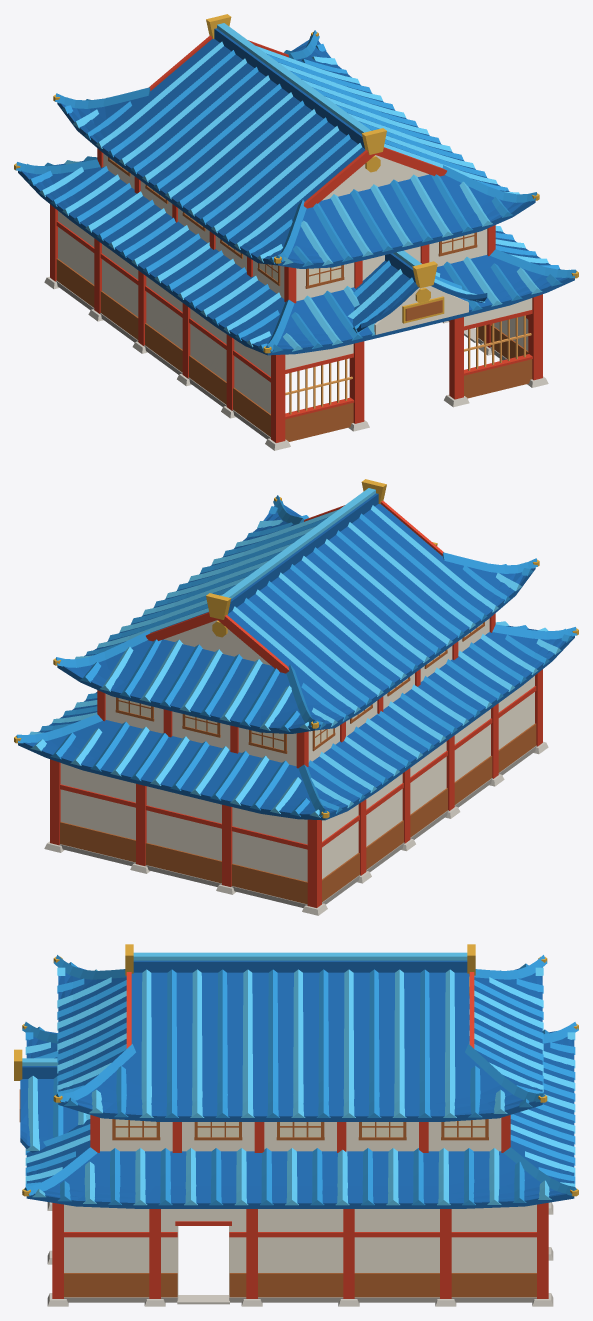
File: FeudalStore.fbx
3 renders of one model, top to bottom at view 1: azimuth 30°, elevation 25°; view 2: azimuth 150°, elevation 25°; view 3: azimuth 270°, elevation 25°, orthographic. The views are drawn at different scales.
Visible parts, largest first — view 1: FeudalStore_Roof_fd_roof_dk, FeudalStore_Roof_fd_roof, FeudalStore_Roof_fd_roof_lt, FeudalStore_fd_red, FeudalStore_fd_plaster, FeudalStore_fd_wood_dk, FeudalStore_Roof_fd_plaster, FeudalStore_Roof_fd_red, FeudalStore_Roof_gold, FeudalStore_fd_wood, FeudalStore_Roof_fd_wood_dk, FeudalStore_fd_stone (+2 smaller); view 2: FeudalStore_Roof_fd_roof_dk, FeudalStore_Roof_fd_roof, FeudalStore_Roof_fd_roof_lt, FeudalStore_fd_plaster, FeudalStore_fd_wood_dk, FeudalStore_fd_red, FeudalStore_Roof_fd_plaster, FeudalStore_Roof_fd_red, FeudalStore_fd_stone_dk, FeudalStore_Roof_fd_wood_dk, FeudalStore_Roof_paper, FeudalStore_Roof_gold (+1 smaller); view 3: FeudalStore_Roof_fd_roof_dk, FeudalStore_Roof_fd_roof, FeudalStore_Roof_fd_roof_lt, FeudalStore_fd_plaster, FeudalStore_fd_wood_dk, FeudalStore_fd_red, FeudalStore_Roof_fd_plaster, FeudalStore_Roof_paper, FeudalStore_Roof_fd_red, FeudalStore_Roof_fd_wood_dk, FeudalStore_fd_stone_dk, FeudalStore_fd_stone (+1 smaller).
Boxes of the visible parts, bbox=[...] form: FeudalStore_Roof_fd_roof_dk: bbox=[18, 28, 574, 355]; FeudalStore_Roof_fd_roof: bbox=[16, 30, 576, 352]; FeudalStore_Roof_fd_roof_lt: bbox=[27, 23, 569, 351]; FeudalStore_fd_red: bbox=[50, 204, 542, 442]; FeudalStore_fd_plaster: bbox=[58, 211, 532, 413]; FeudalStore_fd_wood_dk: bbox=[56, 258, 532, 441]; FeudalStore_Roof_fd_plaster: bbox=[103, 153, 487, 334]; FeudalStore_Roof_fd_red: bbox=[97, 35, 495, 303]; FeudalStore_Roof_gold: bbox=[14, 14, 578, 353]; FeudalStore_fd_wood: bbox=[285, 315, 531, 414]; FeudalStore_Roof_fd_wood_dk: bbox=[108, 157, 477, 321]; FeudalStore_fd_stone: bbox=[44, 276, 548, 450]; FeudalStore_Roof_fd_roof_dk: bbox=[18, 493, 574, 820]; FeudalStore_Roof_fd_roof: bbox=[16, 495, 576, 816]; FeudalStore_Roof_fd_roof_lt: bbox=[29, 488, 561, 817]; FeudalStore_fd_plaster: bbox=[60, 676, 534, 881]; FeudalStore_fd_wood_dk: bbox=[60, 723, 536, 904]; FeudalStore_fd_red: bbox=[50, 669, 542, 907]; FeudalStore_Roof_fd_plaster: bbox=[105, 618, 489, 766]; FeudalStore_Roof_fd_red: bbox=[97, 500, 495, 768]; FeudalStore_fd_stone_dk: bbox=[59, 745, 536, 907]; FeudalStore_Roof_fd_wood_dk: bbox=[115, 622, 484, 753]; FeudalStore_Roof_paper: bbox=[118, 623, 482, 750]; FeudalStore_Roof_gold: bbox=[14, 479, 578, 818]; FeudalStore_Roof_fd_roof_dk: bbox=[20, 960, 574, 1208]; FeudalStore_Roof_fd_roof: bbox=[22, 955, 578, 1205]; FeudalStore_Roof_fd_roof_lt: bbox=[22, 952, 575, 1205]; FeudalStore_fd_plaster: bbox=[64, 1204, 536, 1299]; FeudalStore_fd_wood_dk: bbox=[64, 1273, 536, 1297]; FeudalStore_fd_red: bbox=[52, 1202, 548, 1298]; FeudalStore_Roof_fd_plaster: bbox=[100, 1118, 501, 1151]; FeudalStore_Roof_paper: bbox=[115, 1119, 485, 1137]; FeudalStore_Roof_fd_red: bbox=[90, 972, 510, 1152]; FeudalStore_Roof_fd_wood_dk: bbox=[19, 1089, 488, 1140]; FeudalStore_fd_stone_dk: bbox=[64, 1297, 536, 1302]; FeudalStore_fd_stone: bbox=[47, 1202, 553, 1306].
Size of the model in its own units: 37.87 by 29.68 by 53.63.
